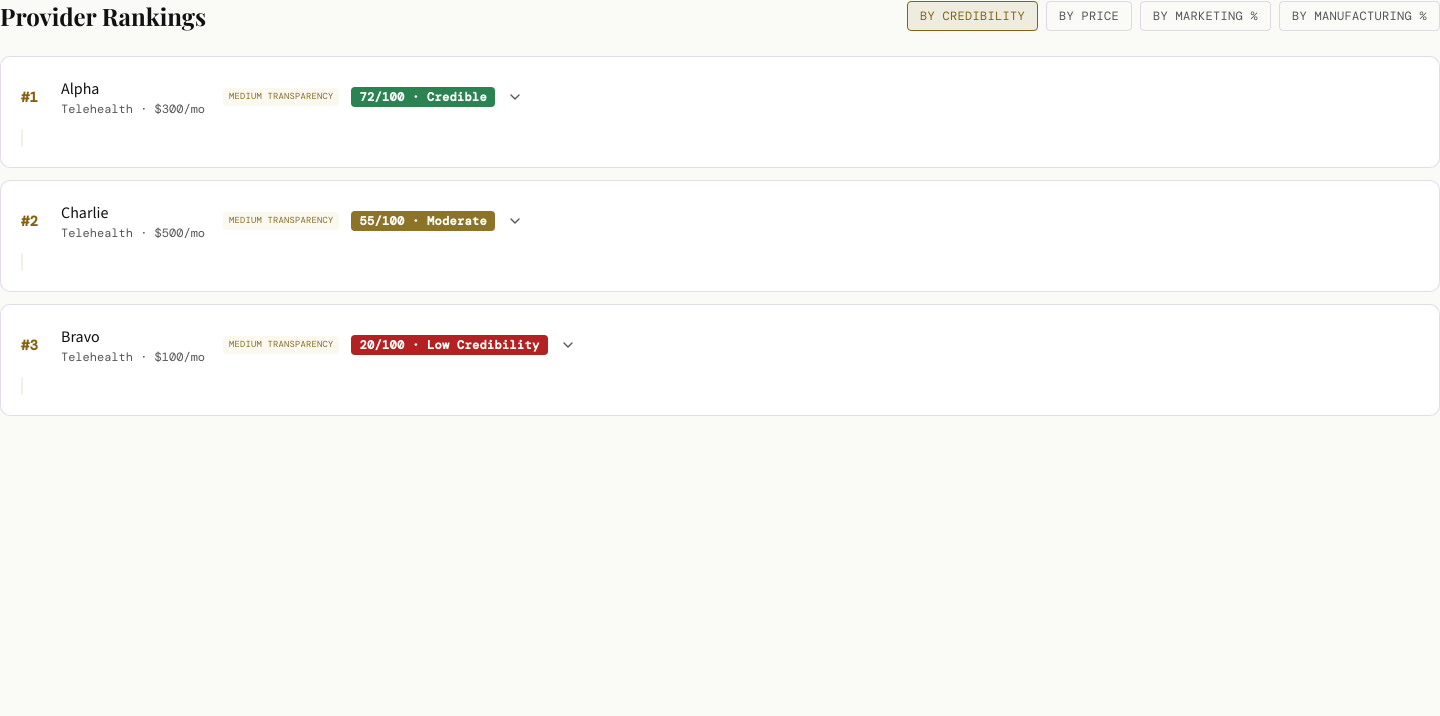
Scenario: SupplyChainRankings › expands a provider into its dollar breakdown, flags and site link
Click the button "Alpha" at (720, 112), box [1,57,1439,167]
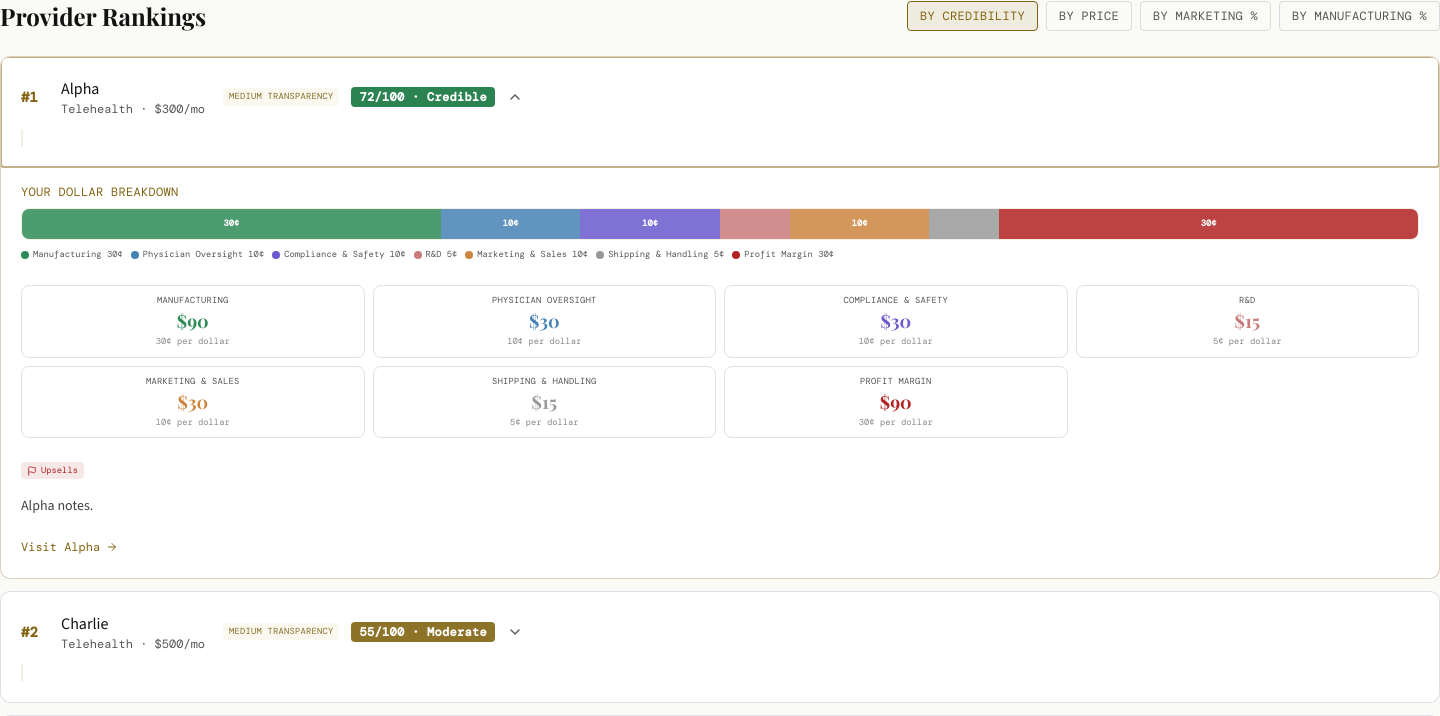
expect the text "Your Dollar Breakdown" is shown: met, box [21,184,178,200]
expect the 1st text "$90" is shown: met, box [177,309,209,333]
expect the text "Upsells" is shown: met, box [21,462,84,479]
